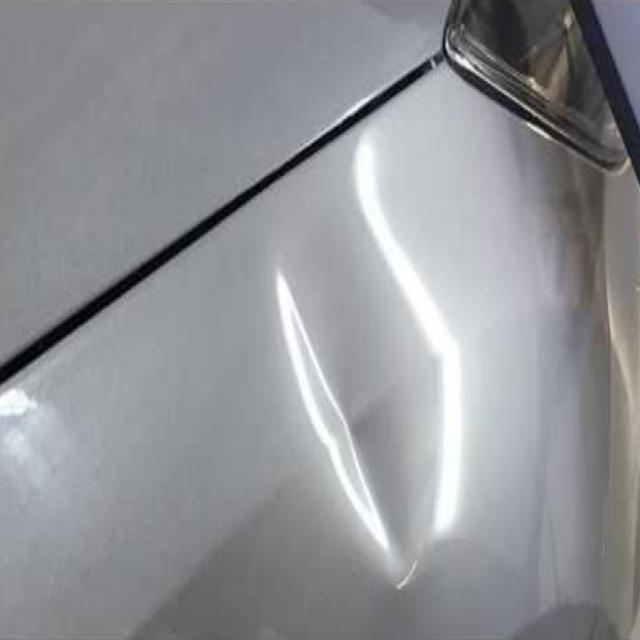dents: (318, 355, 448, 579)
